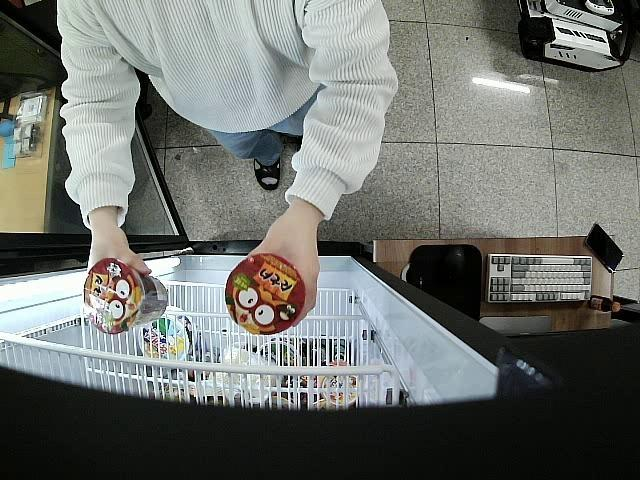06_nuguri_S: (225, 252, 304, 336), (84, 261, 170, 335)
